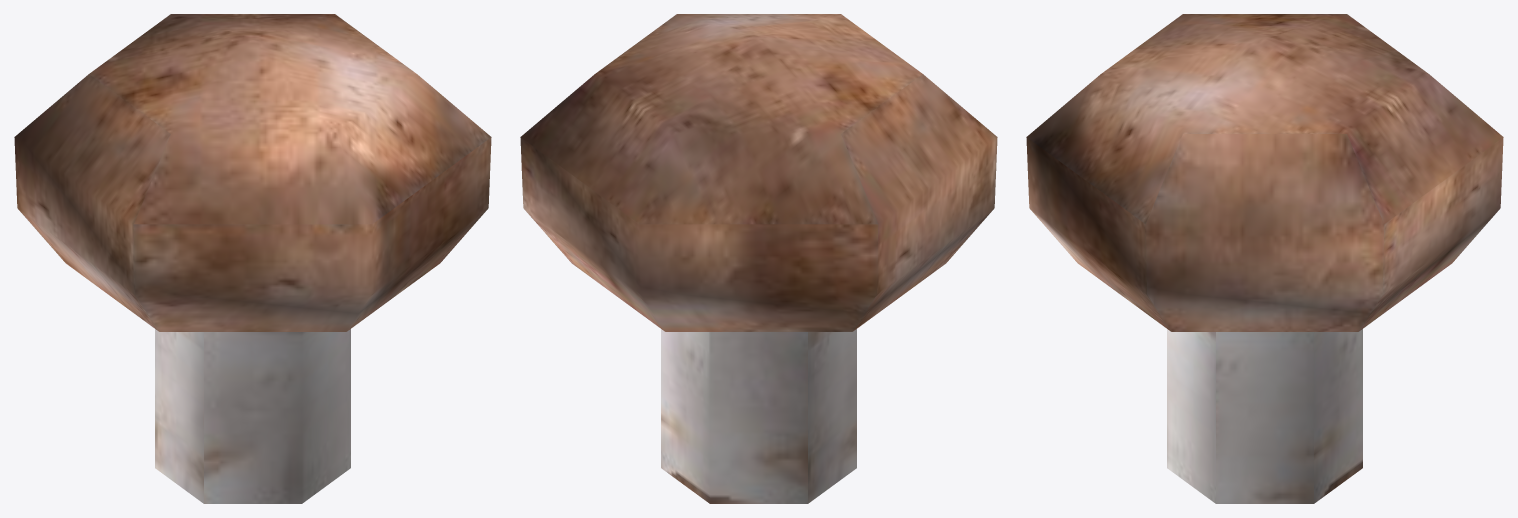
The model's file is Mushrooms.glb.
3 renders of one model, left to right at view 1: azimuth 30°, elevation 25°; view 2: azimuth 150°, elevation 25°; view 3: azimuth 270°, elevation 25°, orthographic.
Parts seen in each view (by area): view 1: Mushrooms; view 2: Mushrooms; view 3: Mushrooms.
Boxes of the visible parts, x1,y1,x2,y2 form: Mushrooms: [14, 14, 491, 503]; Mushrooms: [520, 14, 997, 503]; Mushrooms: [1026, 14, 1503, 503].
Bounding box in the file's own units: 0.0682 × 0.078 × 0.0788.
1 material, 1 textured.
